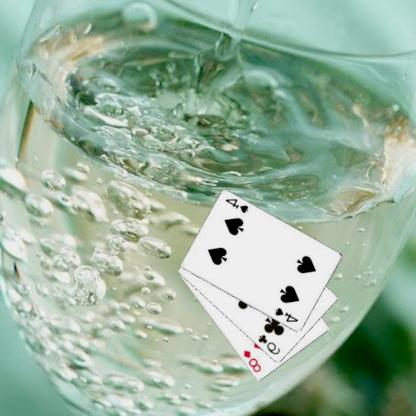4S: (224, 196, 252, 215), (274, 305, 301, 324)
6C: (257, 332, 283, 356)
8D: (242, 348, 264, 374)
